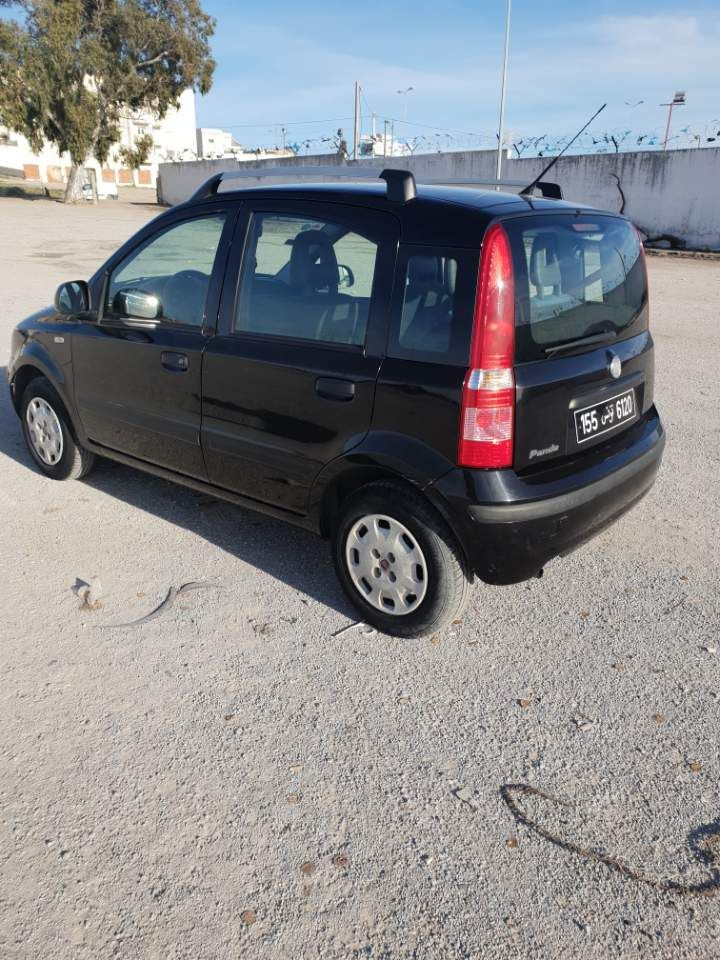LP: (572, 387, 638, 444)
